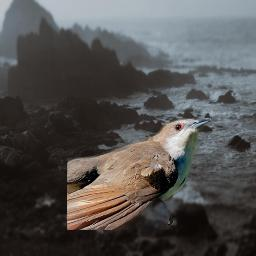Cuckoo: (67, 118, 212, 230)
